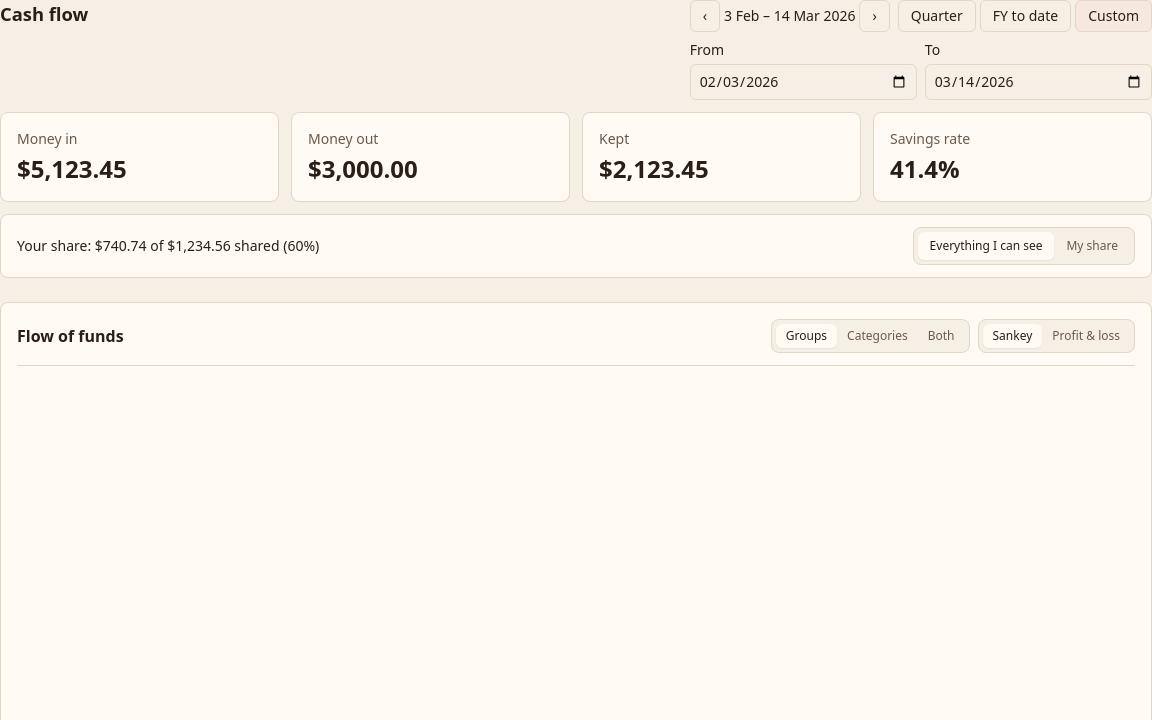
Test: CashFlowPage › reads the range from the URL, and the control writes it back and refetches
This screenshot has width=1152, height=720.
Expected: the element with test id "cash-flow-tiles" is shown, [0,112,1151,202]
Expected: the text with test id "range-label" reads "3 Feb – 14 Mar 2026", [724,6,856,25]
Click the button "FY to date". click: (1026,16)
box: [980,0,1071,32]
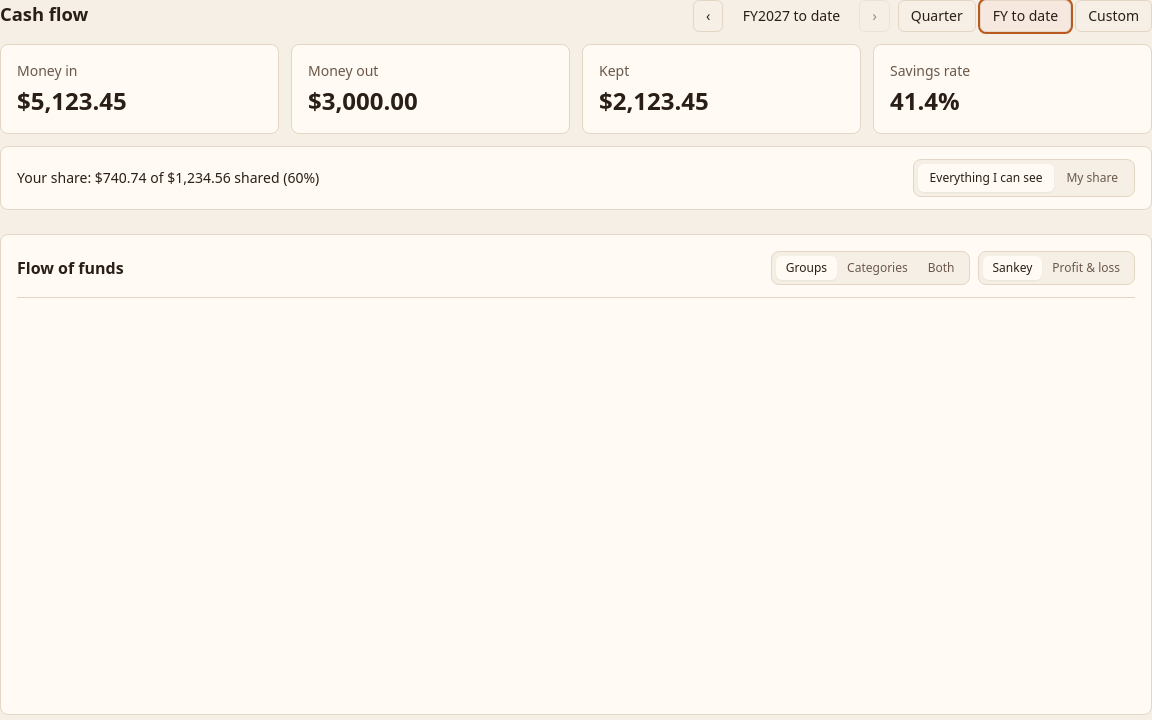
Click the button named "Previous year". click: (708,16)
box: [693,0,723,32]
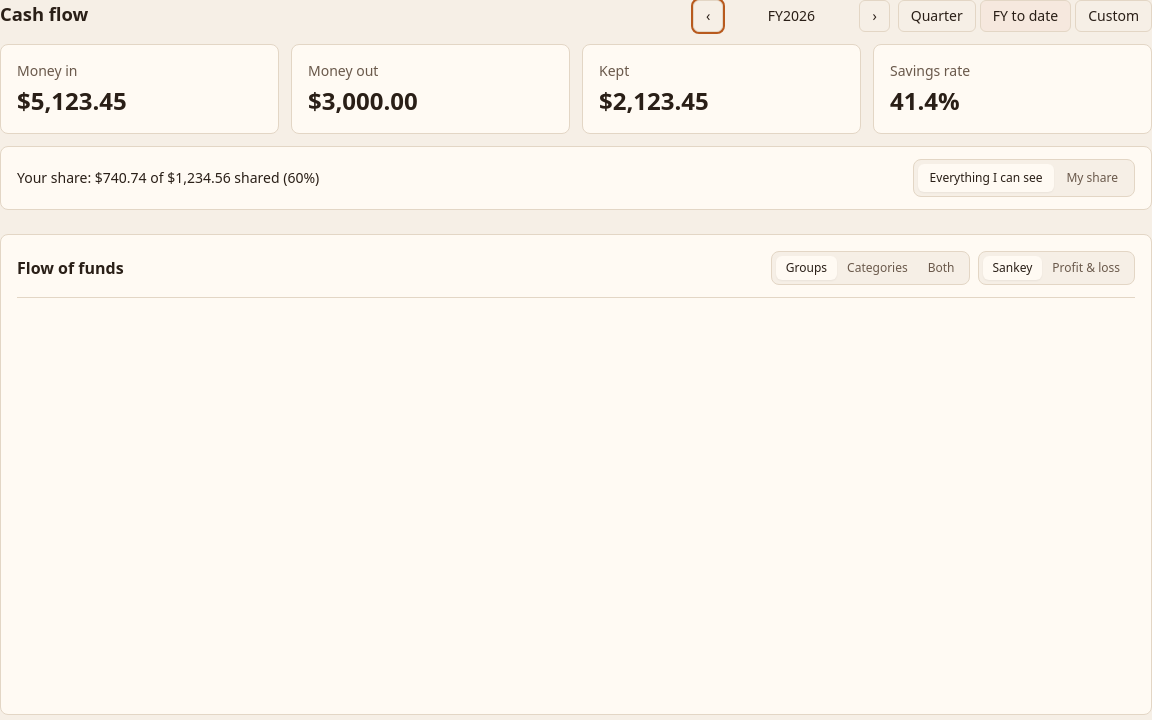
Now the text with test id "range-label" reads "FY2026", box [768,6,815,25]
